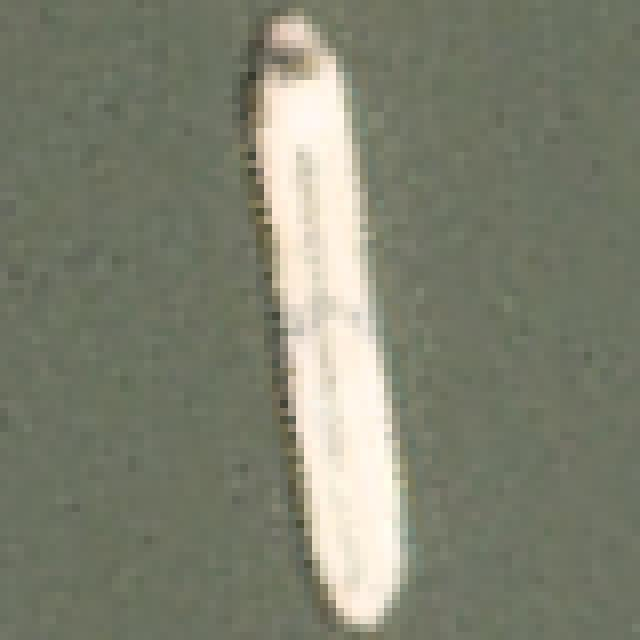ship: (218, 4, 467, 640)
